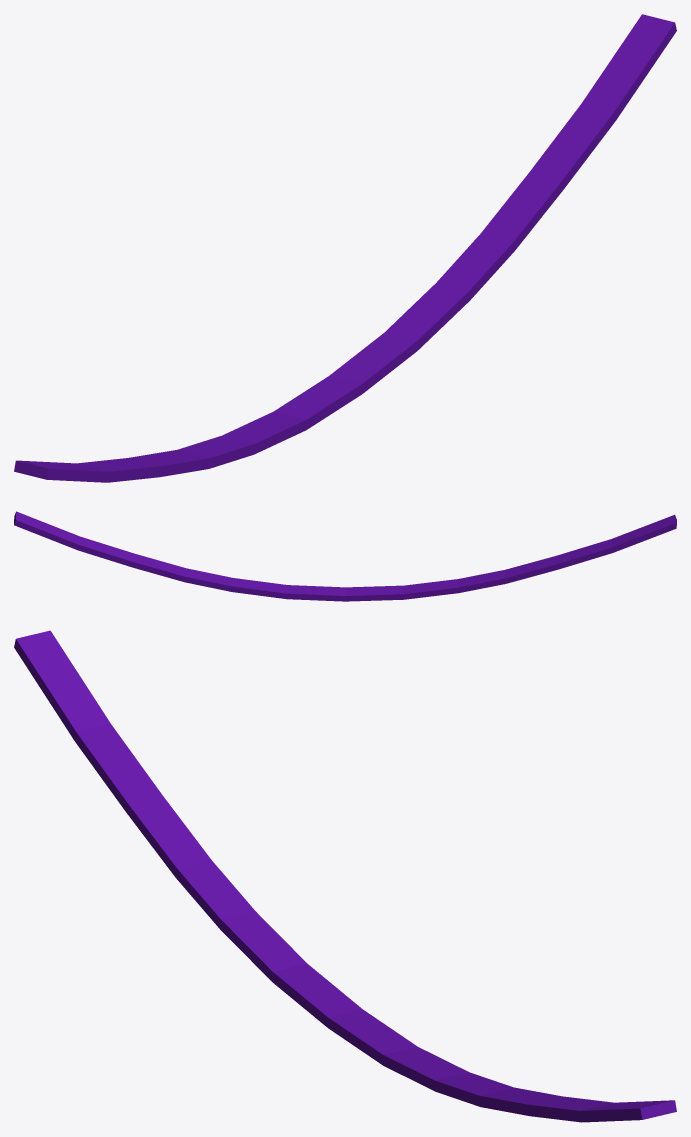
The model's file is Tape_19.fbx.
The picture shows the model from 3 angles, top to bottom: view 1: azimuth 30°, elevation 25°; view 2: azimuth 150°, elevation 25°; view 3: azimuth 270°, elevation 25°; orthographic projection. The views are drawn at different scales.
Visible parts, largest first — view 1: Tape_19; view 2: Tape_19; view 3: Tape_19.
Part boxes in pixels (x1,y1,x2,y2): Tape_19: (14,14,676,482); Tape_19: (14,511,676,601); Tape_19: (14,630,676,1122).
Size of the model in its own units: 689 by 103 by 401.
